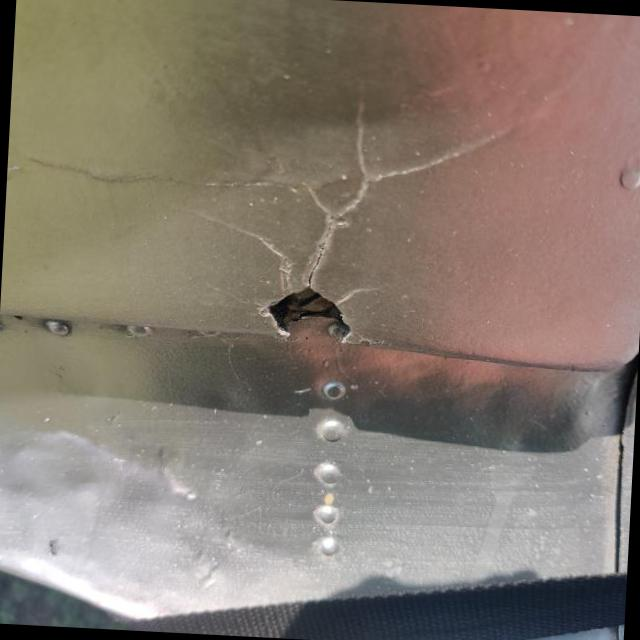Crack: (192, 70, 551, 352)
